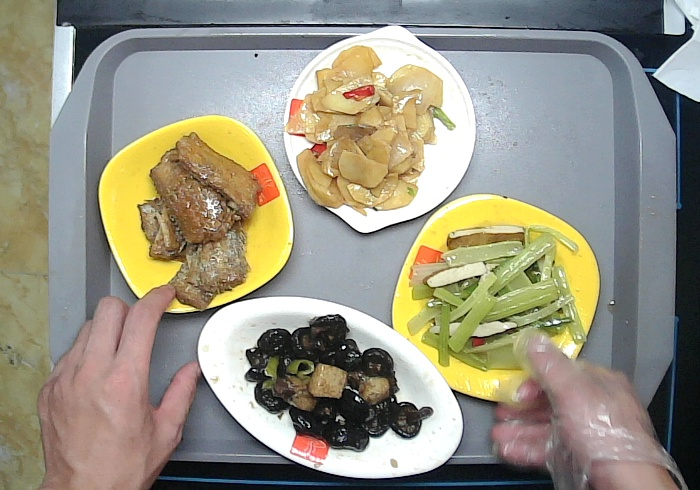SHKJ-Bao_Yu_Pan: (282, 25, 479, 236)
SHKJ-Huang_Se_Cai_Die: (95, 113, 304, 315)
SHKJ-Huang_Se_Si_Fang_Cai_Die: (390, 194, 601, 402)
SHKJ-Yu_Pan: (198, 297, 466, 477)
